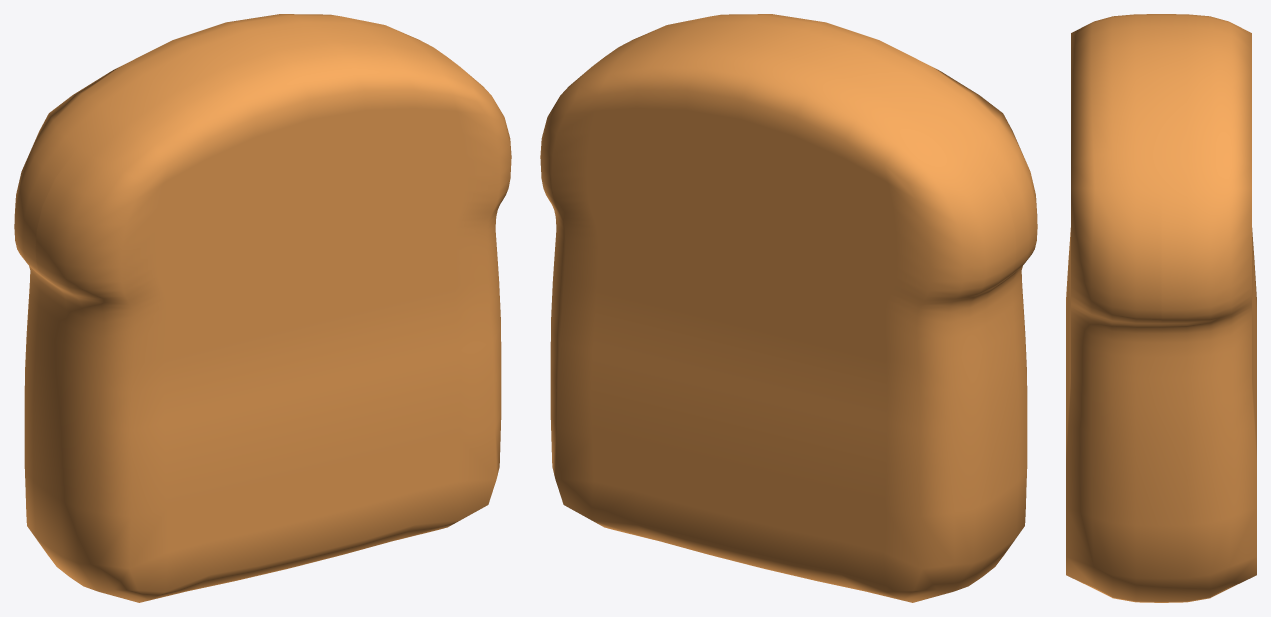
The model's file is Food_bread.fbx.
3 renders of one model, left to right at view 1: azimuth 30°, elevation 25°; view 2: azimuth 150°, elevation 25°; view 3: azimuth 270°, elevation 25°, orthographic. The views are drawn at different scales.
Parts seen in each view (by area): view 1: Cube; view 2: Cube; view 3: Cube.
Boxes of the visible parts, x1,y1,x2,y2 form: Cube: [14, 14, 511, 602]; Cube: [540, 14, 1037, 602]; Cube: [1066, 14, 1256, 602].
Size of the model in its own units: 92.74 by 100 by 35.46.
